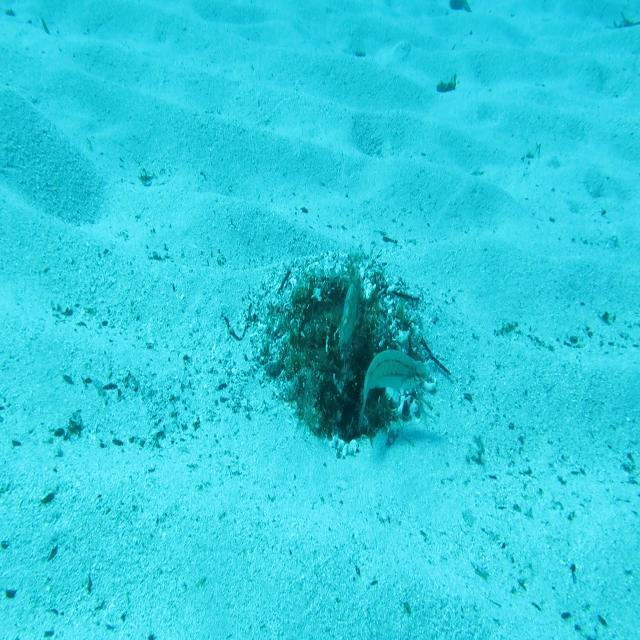NIP_CORE: (337, 281, 361, 361)
core_nest: (316, 291, 364, 344)
female: (357, 348, 431, 435)
nest: (240, 241, 446, 476)
vegetation: (435, 70, 459, 95)
